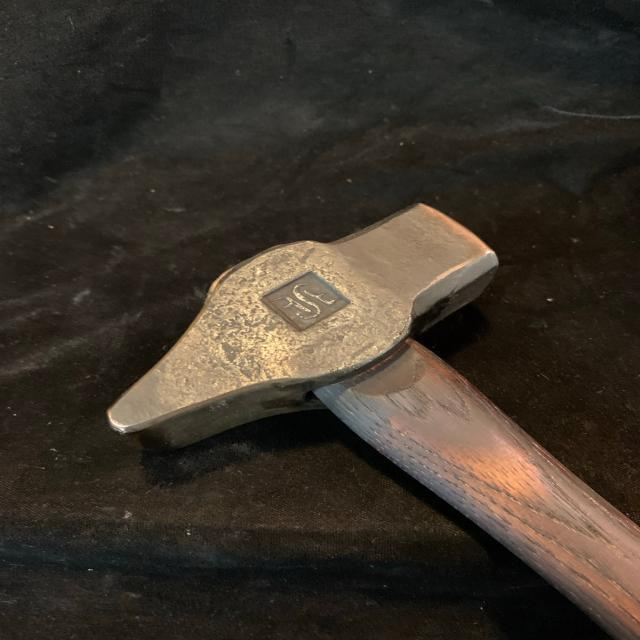hammer: (85, 198, 640, 640)
